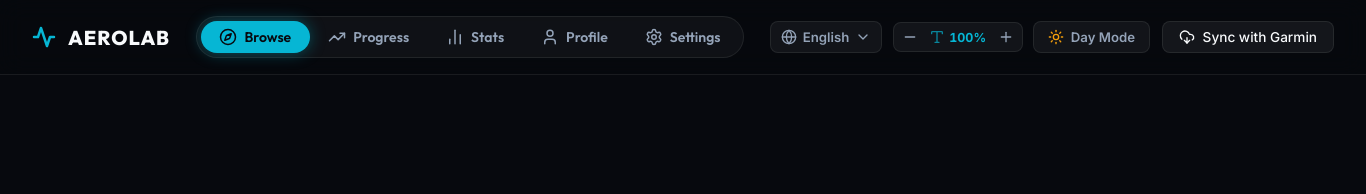
Test case: Navbar & Theme Switcher UI Component Tests › renders font size dropdown and changes font size scale
Expected: the button with id "font-size-dec-btn" is shown, [898,25,922,49]
Expected: the element with id "font-size-current-val" reads "100%", [929,29,986,45]
Note: Click + to reach large (125%)
Click the button with id "font-size-inc-btn".
click(1006, 37)  # box [994,25,1018,49]
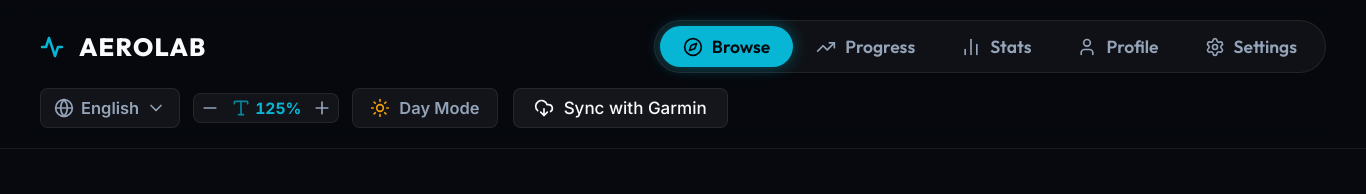
Now the element with id "font-size-current-val" reads "125%", box [231,98,301,118]
Note: Click + to reach xlarge (150% max cap)
Click the button with id "font-size-inc-btn".
click(322, 108)  # box [310,96,334,120]
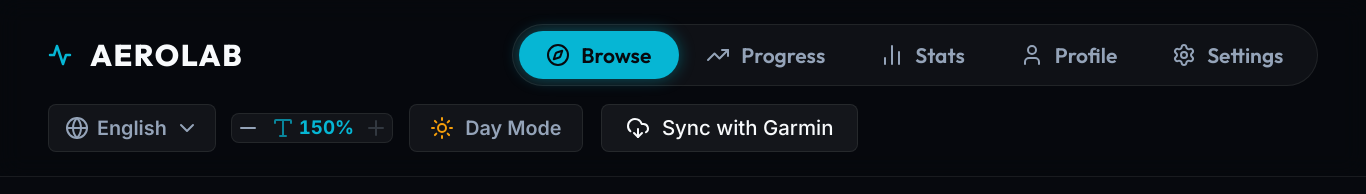
Now the element with id "font-size-current-val" reads "150%", box [271,116,354,140]
Now the button with id "font-size-inc-btn" is disabled, box [364,116,388,140]
Note: Click - to step down
Click the button with id "font-size-dec-btn".
click(248, 128)  # box [236,116,260,140]
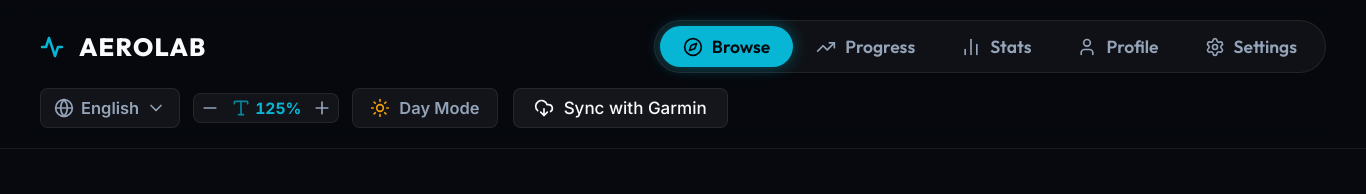
Now the element with id "font-size-current-val" reads "125%", box [231,98,301,118]
Click the button with id "font-size-dec-btn".
click(210, 108)  # box [198,96,222,120]
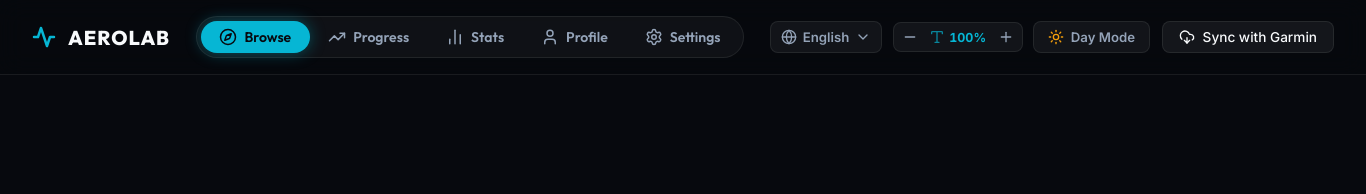
Now the element with id "font-size-current-val" reads "100%", box [929,29,986,45]
Click the button with id "font-size-dec-btn".
click(910, 37)  # box [898,25,922,49]
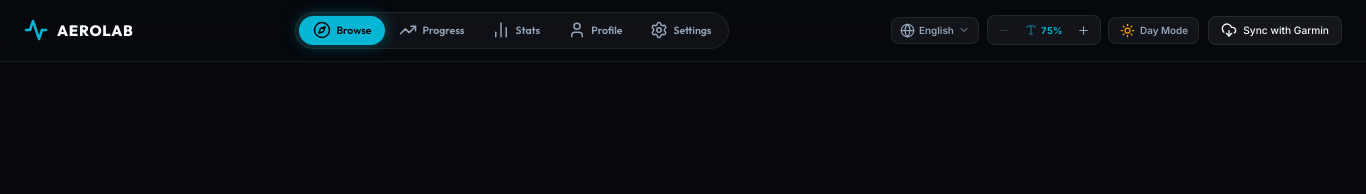
Now the element with id "font-size-current-val" reads "75%", box [1025,24,1062,36]
Now the button with id "font-size-dec-btn" is disabled, box [992,18,1016,42]
